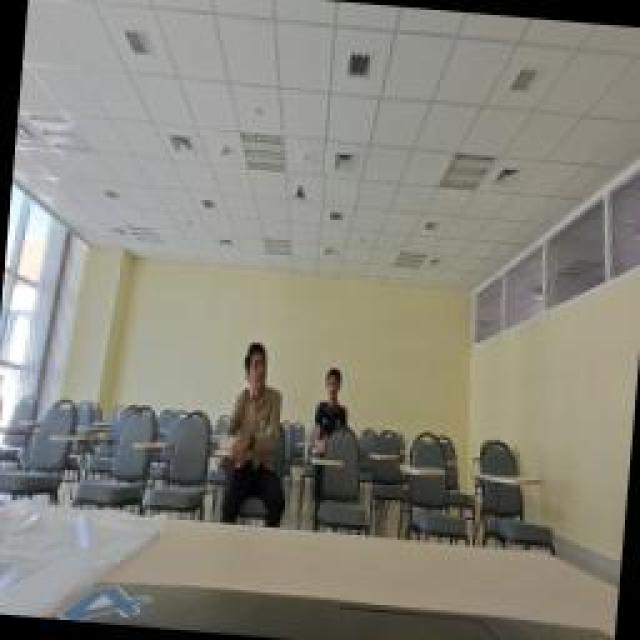study: (212, 340, 298, 528), (310, 362, 352, 462)
